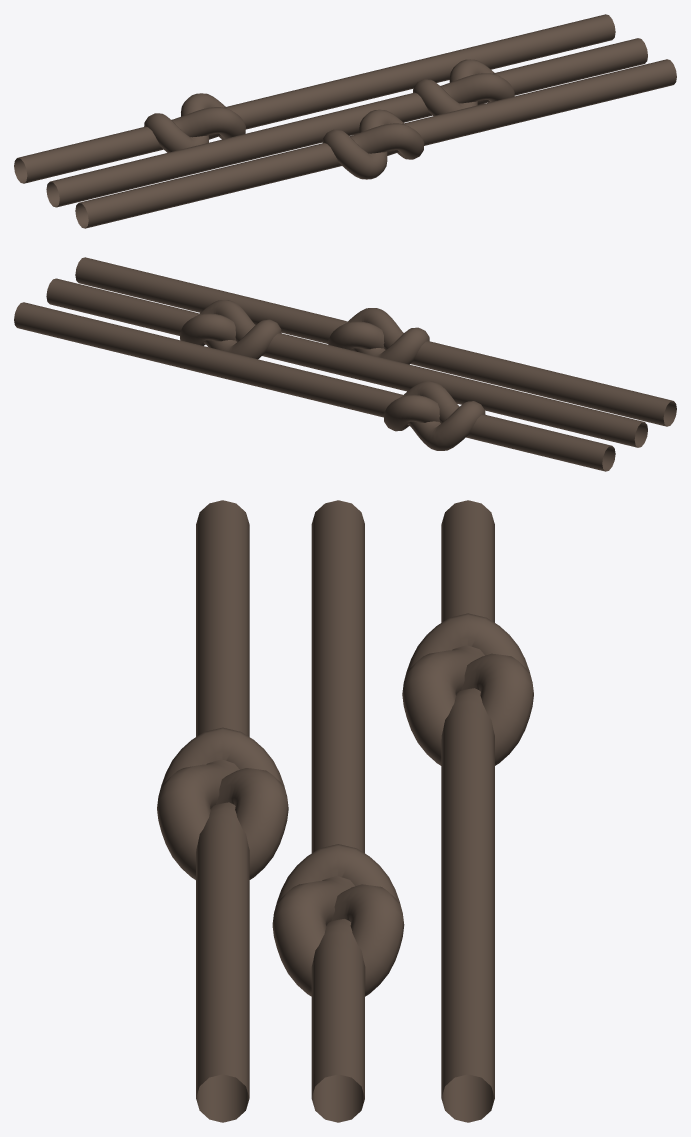
File: Rubberband.fbx
3 views of the same model, one above another, from view 1: azimuth 30°, elevation 25°; view 2: azimuth 150°, elevation 25°; view 3: azimuth 270°, elevation 25° (orthographic). The views are drawn at different scales.
Parts seen in each view (by area): view 1: Gummiband.001; view 2: Gummiband.001; view 3: Gummiband.001.
Boxes of the visible parts, bbox=[...] form: Gummiband.001: bbox=[14, 14, 676, 228]; Gummiband.001: bbox=[14, 257, 676, 471]; Gummiband.001: bbox=[157, 500, 533, 1122].
Bounding box in the file's own units: 650 × 49.87 × 180.
